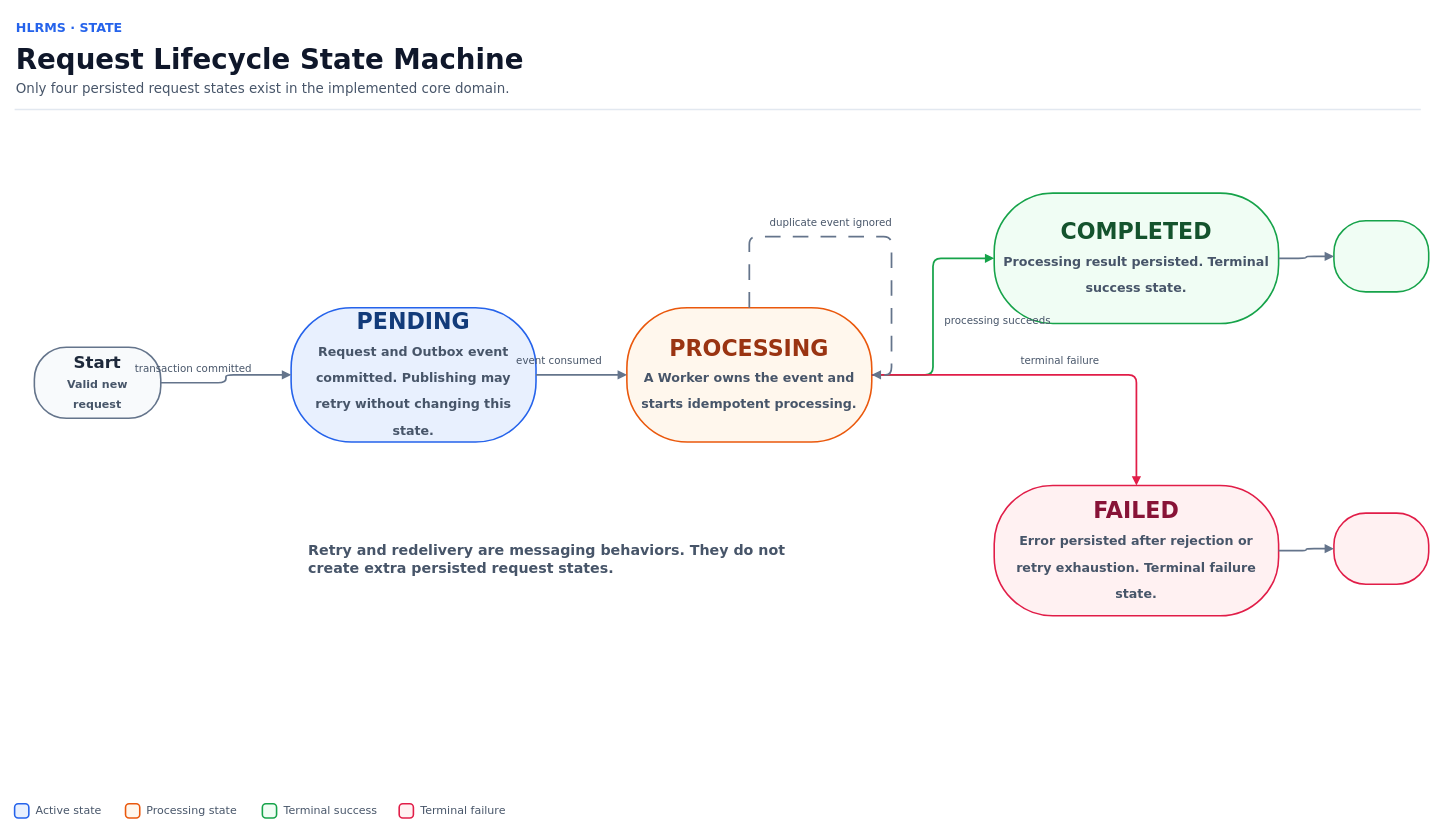
This 1443x836 diagram has some shape labels left out. The shapes that lost their labels are listed below. From the top down, each one's box as (x1, y1, x2, y2) in pixels, then its label:
(1333, 220, 1429, 292): End Success
(1333, 512, 1429, 585): End Failure
